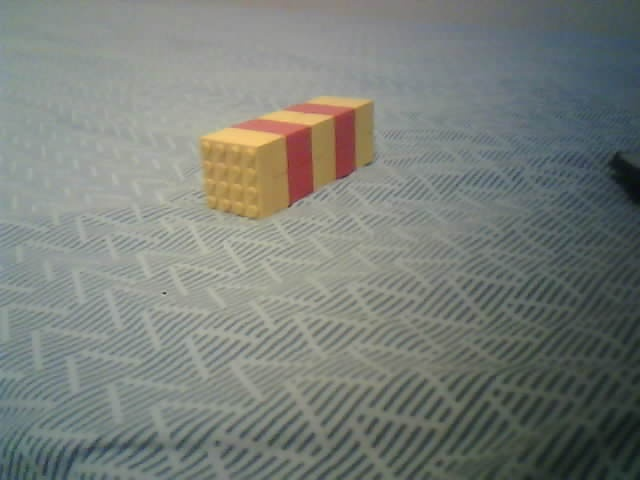lego: (197, 96, 376, 220)
